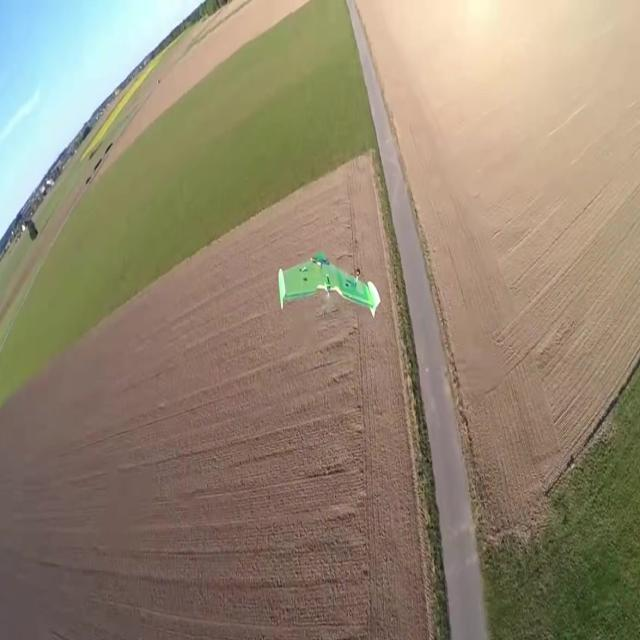iha: (304, 283, 343, 287)
